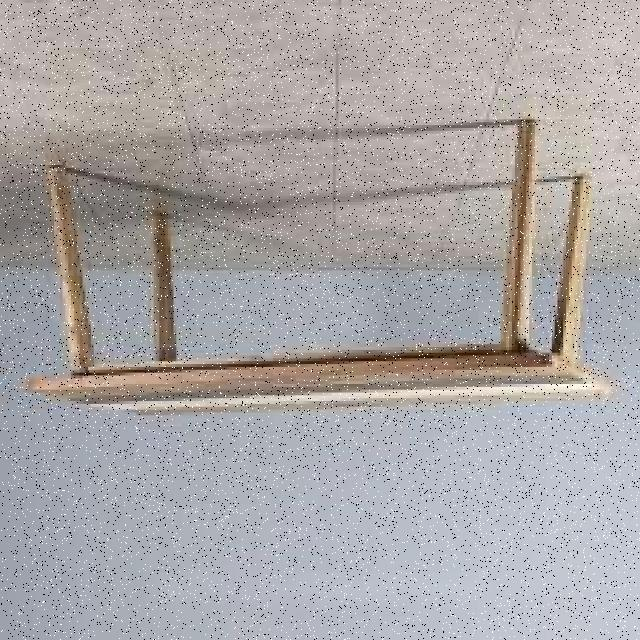mobile-phone: (29, 113, 618, 424)
